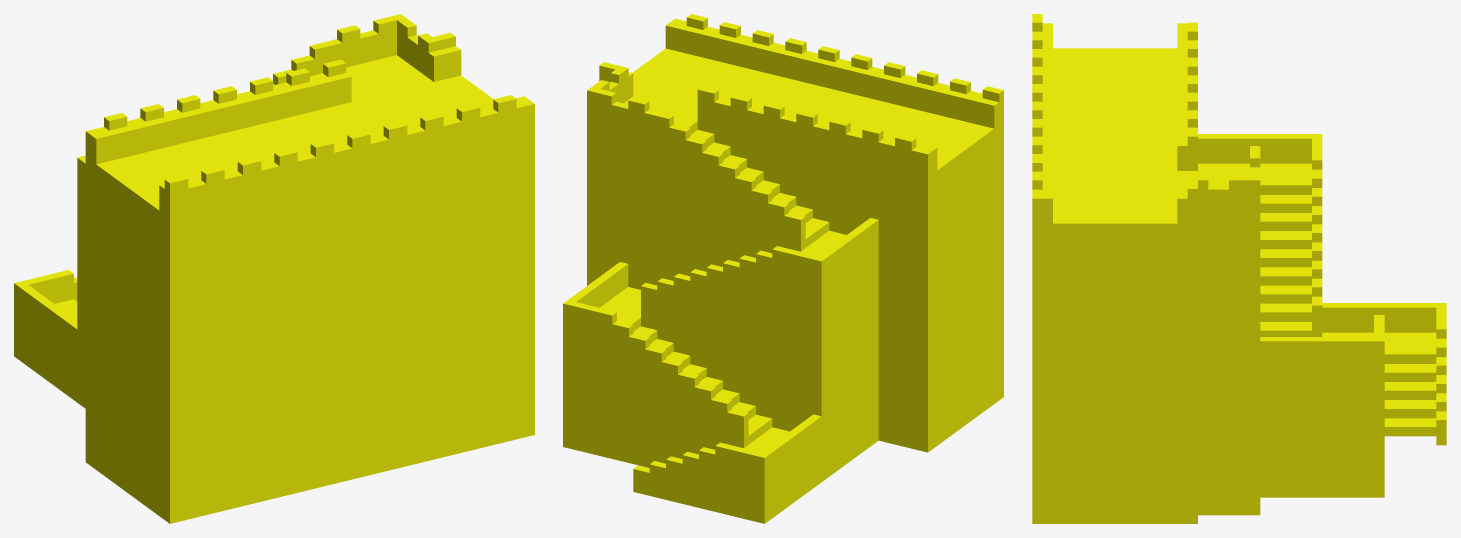
The model's file is voxel-knights-wall-with-stairs.glb.
3 renders of one model, left to right at view 1: azimuth 30°, elevation 25°; view 2: azimuth 150°, elevation 25°; view 3: azimuth 270°, elevation 25°, orthographic. The views are drawn at different scales.
Parts seen in each view (by area): view 1: ObjObject.004; view 2: ObjObject.004; view 3: ObjObject.004.
Part boxes in pixels (box(x1,y1,x2,y2)): ObjObject.004: box(14, 14, 534, 523); ObjObject.004: box(563, 14, 1003, 523); ObjObject.004: box(1032, 14, 1446, 523).
Size of the model in its own units: 12 by 10.7 by 12.
